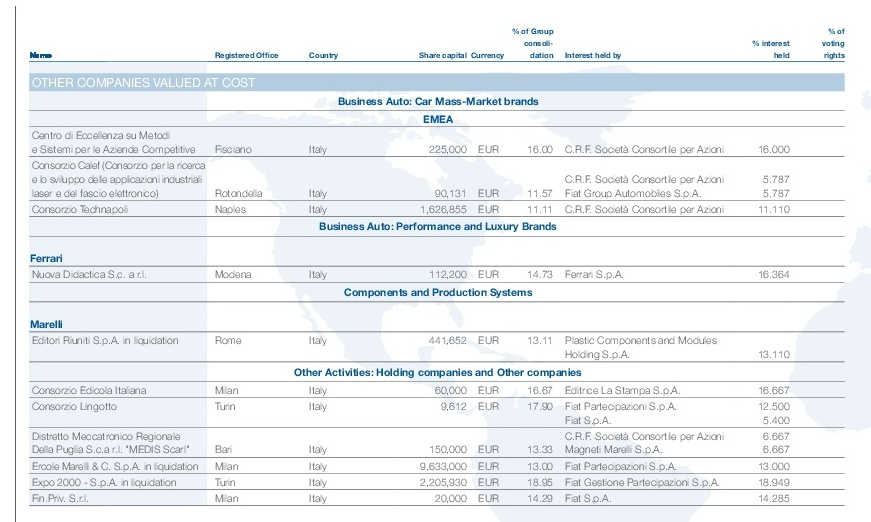table: (0, 0, 871, 522)
